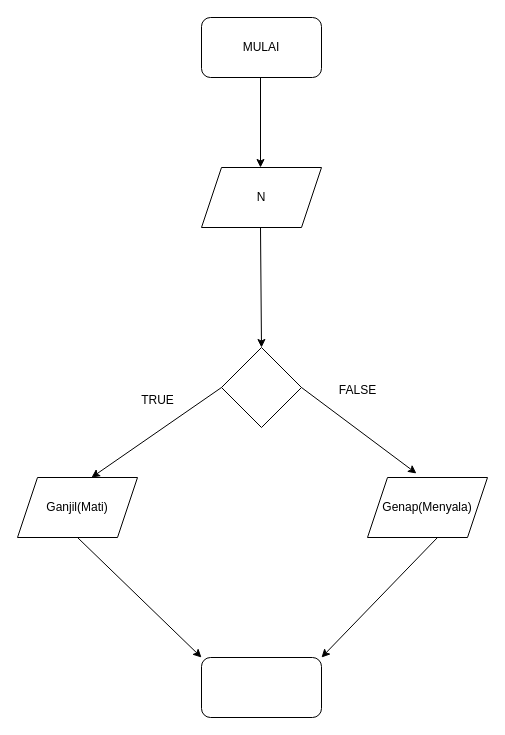
The diagram is 505 pixels wide and 735 high, and some of its shapes have lost their labels. Each missing label, with the centre of its shape:
N % 2 == 0: point 261,387
SELESAI: point 261,687
